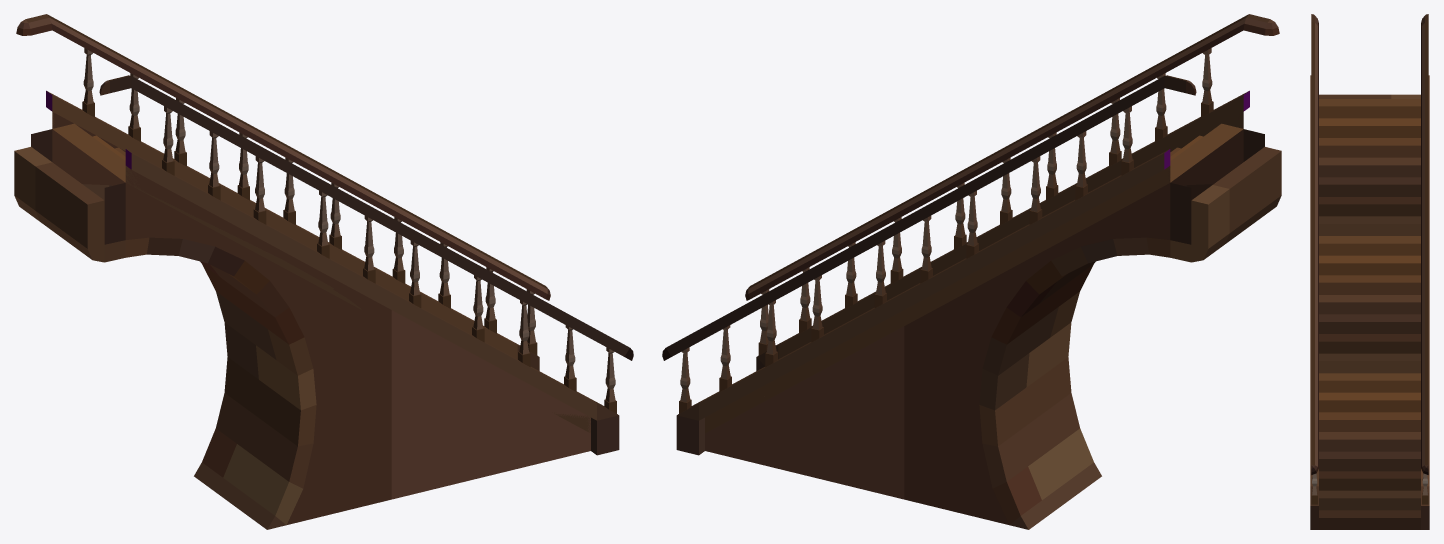
The model's file is HomeA_StairsB.fbx.
3 renders of one model, left to right at view 1: azimuth 30°, elevation 25°; view 2: azimuth 150°, elevation 25°; view 3: azimuth 270°, elevation 25°, orthographic. The views are drawn at different scales.
Visible parts, largest first — view 1: HomeA_StairsB; view 2: HomeA_StairsB; view 3: HomeA_StairsB.
Part boxes in pixels (x1=…): HomeA_StairsB: x1=14, y1=14, x2=633, y2=529; HomeA_StairsB: x1=662, y1=14, x2=1281, y2=529; HomeA_StairsB: x1=1310, y1=14, x2=1429, y2=529.
Bounding box in the file's own units: 638 × 556 × 175.
